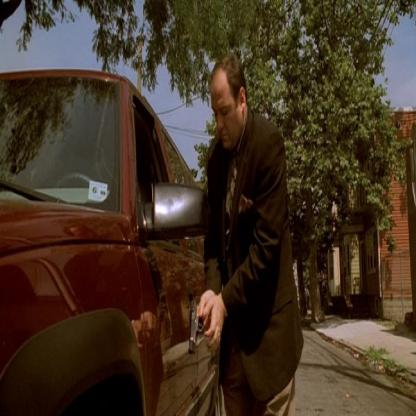Gun: (185, 294, 212, 359)
